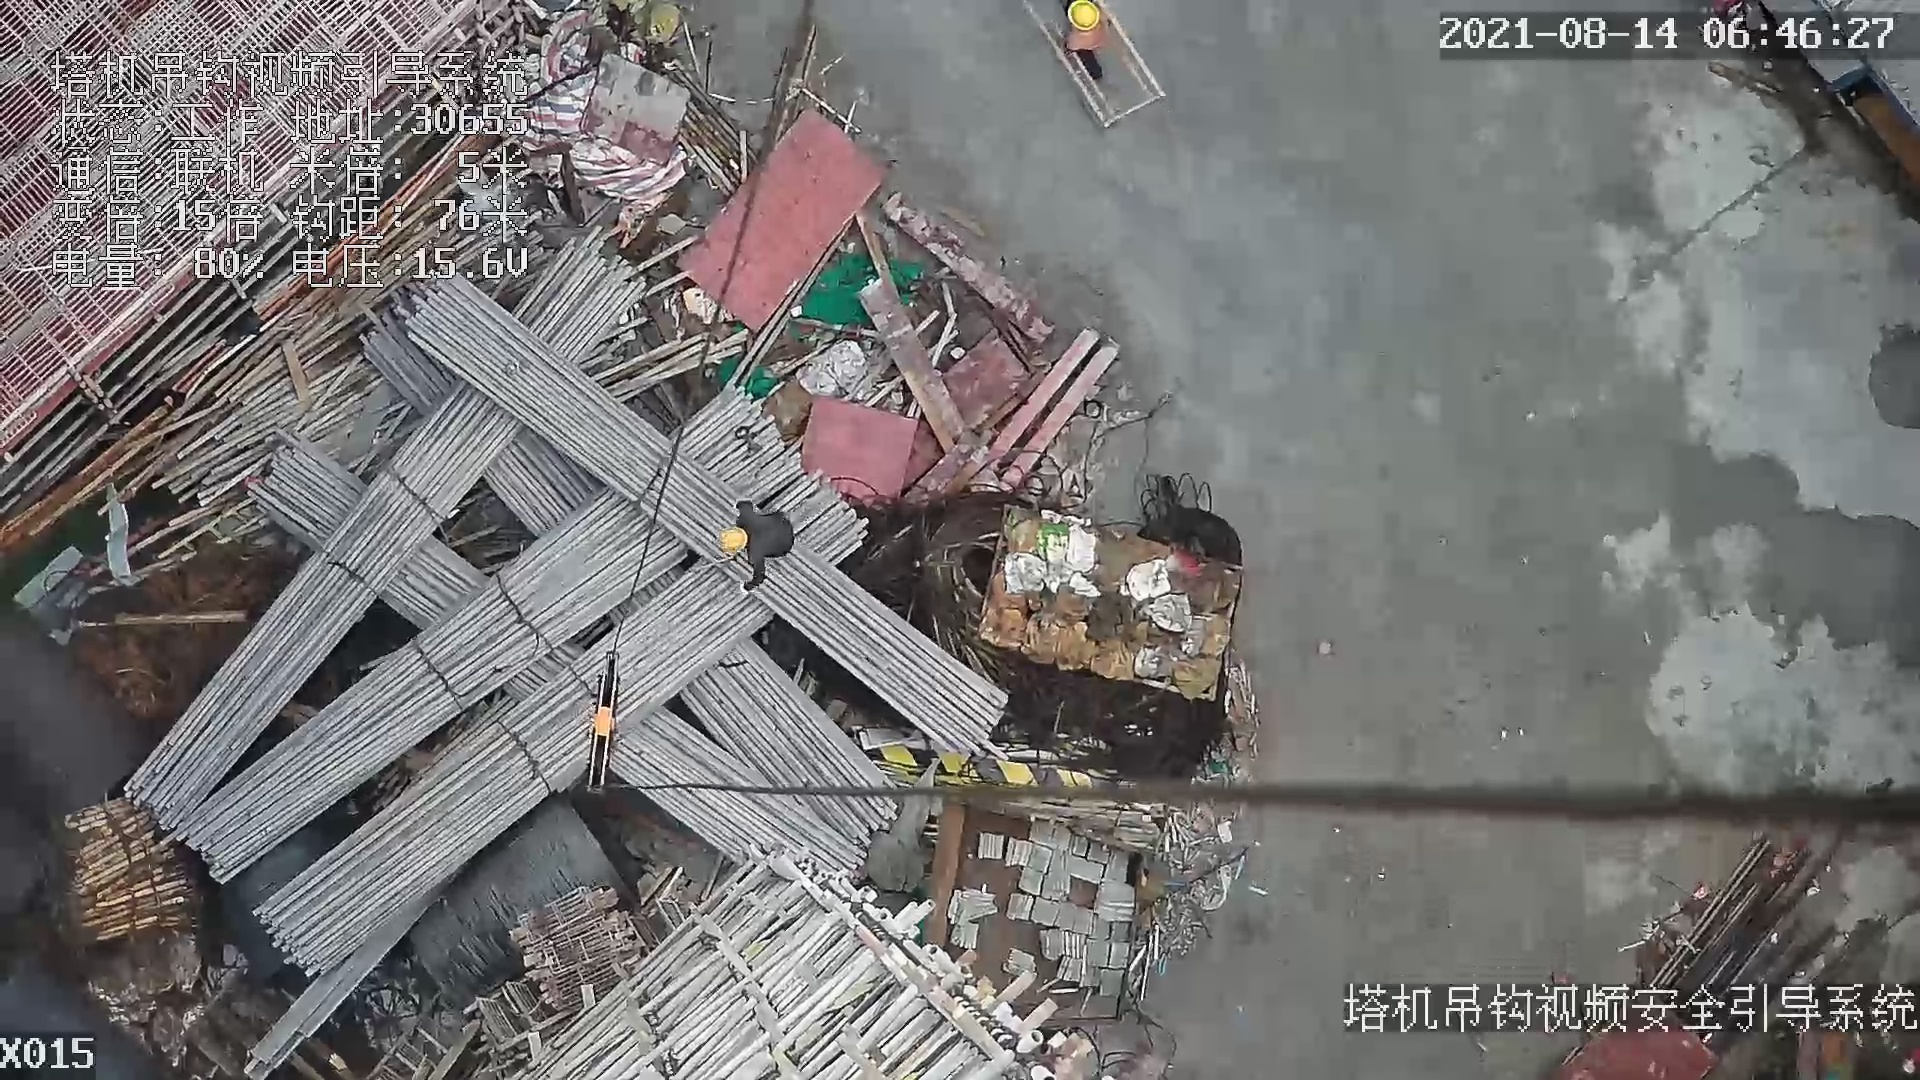board: (684, 109, 877, 326)
helmet: (714, 524, 751, 552), (1064, 7, 1101, 28)
hook: (579, 646, 631, 796)
person: (717, 497, 790, 599), (1056, 1, 1109, 91)
scaffold: (56, 801, 196, 938)
